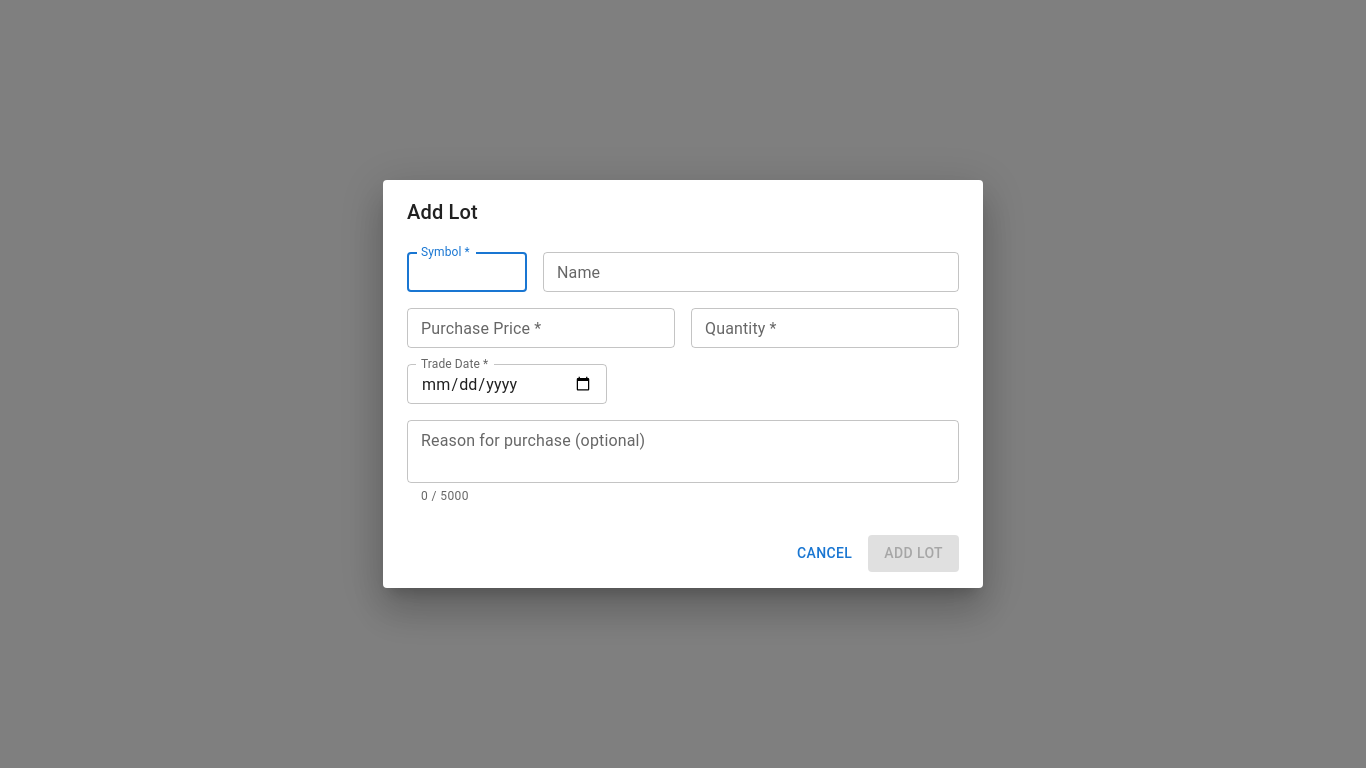
Test: AddLotDialog › shows the note length against the 5000-character cap
The width and height of the screenshot is (1366, 768).
Expected: the text "0 / 5000" is shown, [421,489,469,503]
Type "abc" into the text box labelled "Reason for purchase (optional)" at (683, 452), box [421,429,945,475]
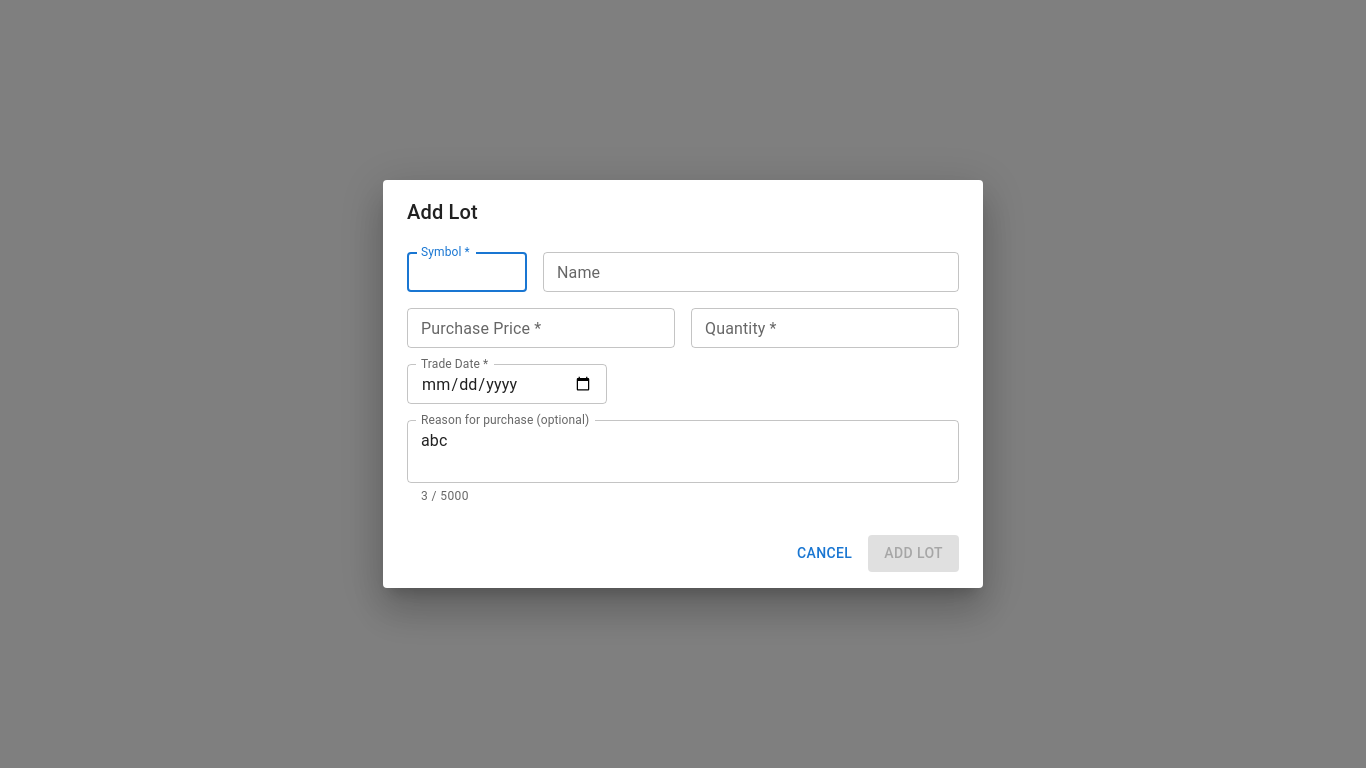
Now the text "3 / 5000" is shown, box [421,489,469,503]
